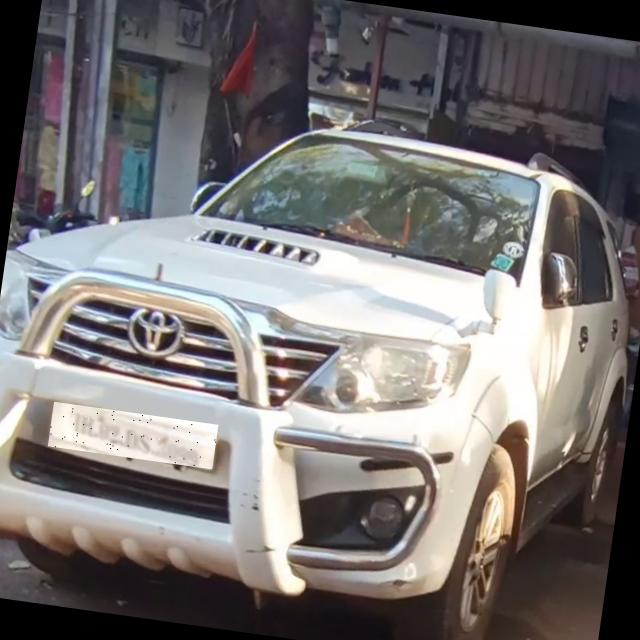Plate: (49, 403, 220, 471)
